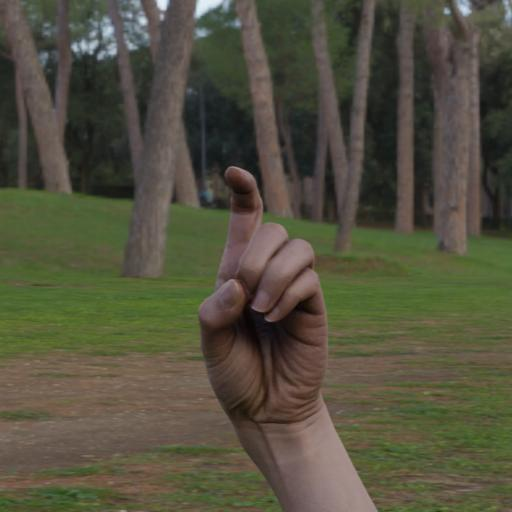X: (149, 118, 393, 475)
